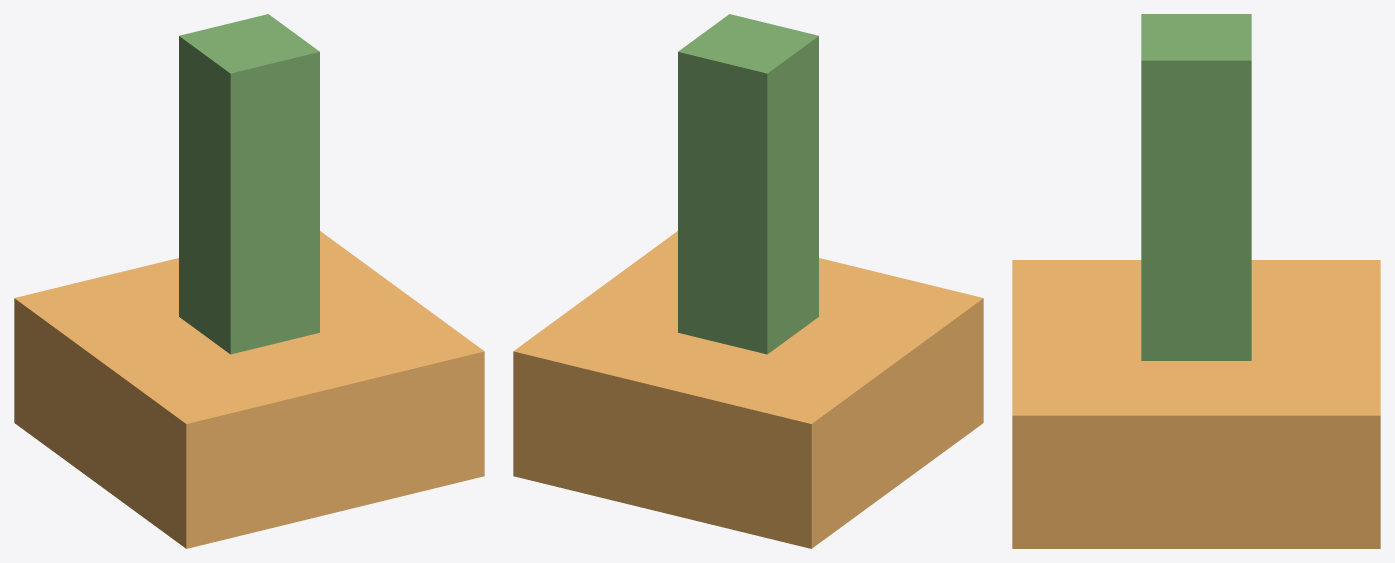
The model's file is Item_DS_Herb_OverclockThorn.glb.
3 renders of one model, left to right at view 1: azimuth 30°, elevation 25°; view 2: azimuth 150°, elevation 25°; view 3: azimuth 270°, elevation 25°, orthographic. The views are drawn at different scales.
Parts seen in each view (by area): view 1: Cube, Cube.001; view 2: Cube, Cube.001; view 3: Cube, Cube.001.
Boxes of the visible parts, x1=… form: Cube: x1=14, y1=231, x2=484, y2=548; Cube.001: x1=179, y1=14, x2=319, y2=354; Cube: x1=513, y1=231, x2=983, y2=548; Cube.001: x1=678, y1=14, x2=818, y2=354; Cube: x1=1012, y1=260, x2=1380, y2=548; Cube.001: x1=1141, y1=14, x2=1251, y2=360.
Size of the model in its own units: 0.2 by 0.26 by 0.2.
